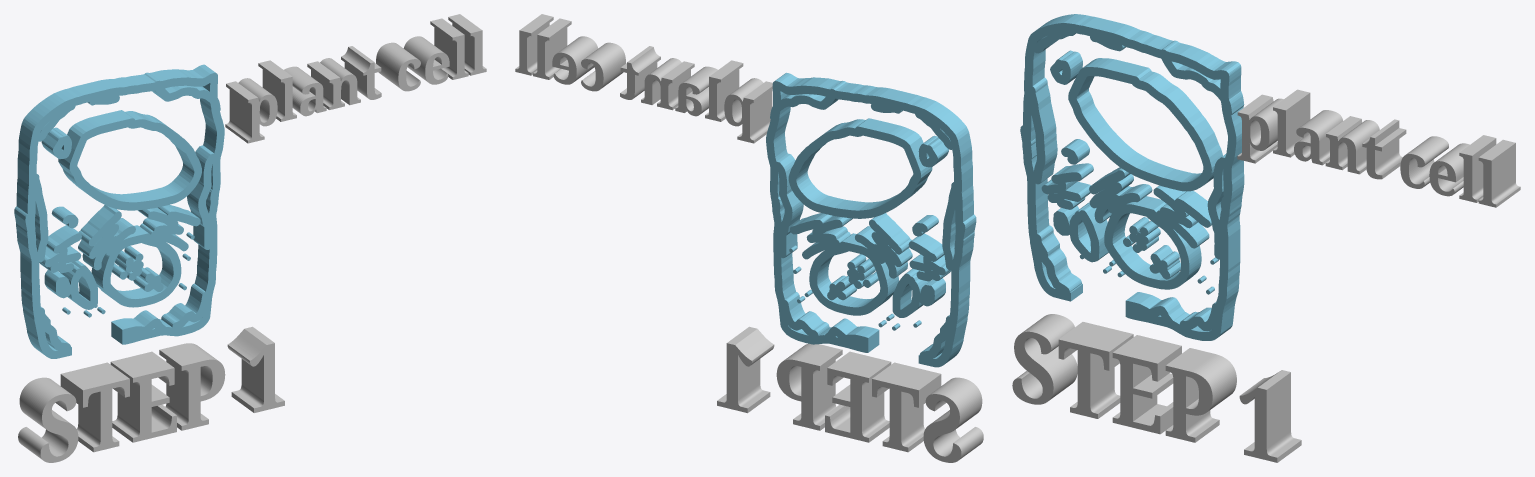
File: cell.obj
The picture shows the model from 3 angles, left to right: view 1: azimuth 30°, elevation 25°; view 2: azimuth 150°, elevation 25°; view 3: azimuth 330°, elevation 25°; orthographic projection. The views are drawn at different scales.
Visible parts, largest first — view 1: group_0_8768998, group_0_15277357; view 2: group_0_8768998, group_0_15277357; view 3: group_0_8768998, group_0_15277357.
Part boxes in pixels (left/top/right/bottom): group_0_8768998: left=14, top=64, right=224, bottom=358; group_0_15277357: left=18, top=14, right=486, bottom=462; group_0_8768998: left=766, top=72, right=976, bottom=367; group_0_15277357: left=515, top=14, right=983, bottom=462; group_0_8768998: left=1020, top=14, right=1244, bottom=340; group_0_15277357: left=1012, top=89, right=1520, bottom=462.
Bounding box in the file's own units: 116 × 86.09 × 10.
